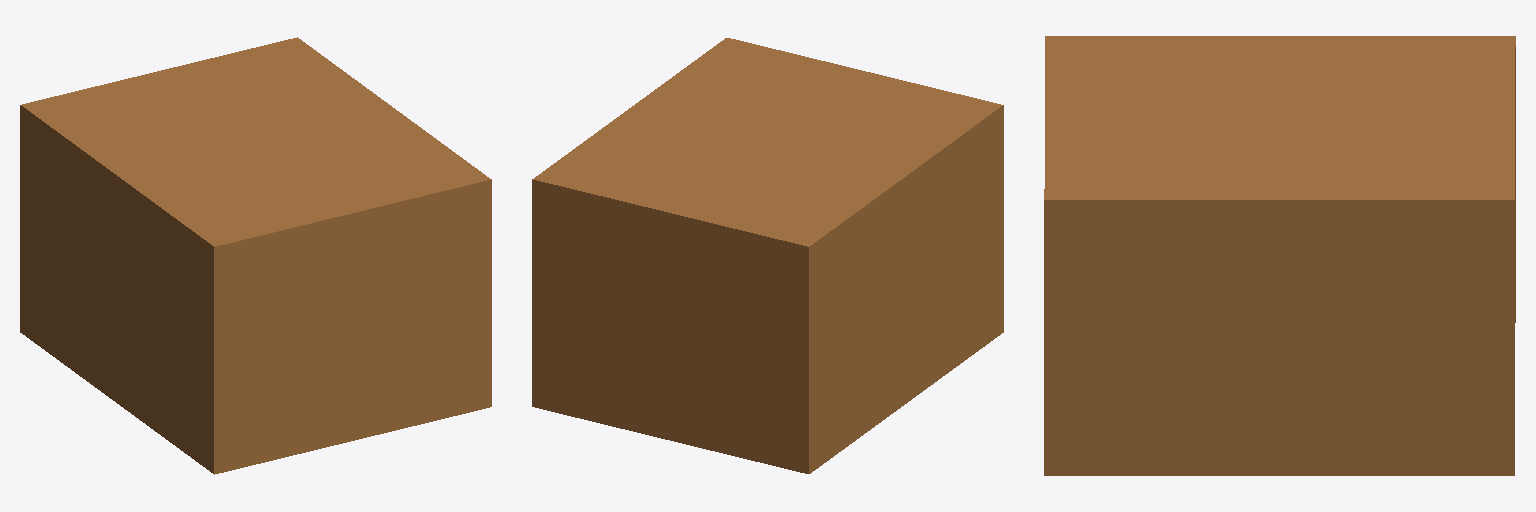
robot.urdf — Moving_box:
<?xml version="1.0" ?>
<!-- =================================================================================== -->
<!-- |    This document was autogenerated by xacro from moving_box.urdf.xacro          | -->
<!-- |    EDITING THIS FILE BY HAND IS NOT RECOMMENDED                                 | -->
<!-- =================================================================================== -->
<robot name="Moving_box">
  <link name="world">
    <origin rpy="0 0 0" xyz="0 0 0"/>
  </link>
  <link name="box_3">
    <visual>
      <origin rpy="0 0 0" xyz="0 0 0.0825"/>
      <geometry>
        <box size="0.255 0.21 0.165"/>
      </geometry>
      <material name="Almond">
        <color rgba="0.7 0.5 0.3 1.0"/>
      </material>
    </visual>
    <collision>
      <origin rpy="0 0 0" xyz="0 0 0.0825"/>
      <geometry>
        <box size="0.255 0.21 0.165"/>
      </geometry>
    </collision>
    <inertial>
      <origin rpy="0 0 0" xyz="0 0 0.0825"/>
      <mass value="0.01"/>
      <inertia ixx="6.0e-4" ixy="0" ixz="0" iyy="6.0e-4" iyz="0" izz="6.0e-4"/>
    </inertial>
  </link>
  <joint name="box_3_joint" type="planar">
    <axis xyz="0 0 1"/>
    <origin rpy="0 0 1.57" xyz="-0.21 -0.1275 0"/>
    <parent link="world"/>
    <child link="box_3"/>
  </joint>
</robot>

--- Render facts (derived) ---
The picture shows the robot from 3 angles, left to right: view 1: azimuth 30°, elevation 25°; view 2: azimuth 150°, elevation 25°; view 3: azimuth 270°, elevation 25°; orthographic projection.
Model Moving_box with 2 links and 1 joints (1 planar), rooted at world, posed all joints at 0.
Visible links, largest first — view 1: box_3; view 2: box_3; view 3: box_3.
Boxes of the visible links, box(x1,y1,x2,y2) form: box_3: box(20, 37, 491, 474); box_3: box(532, 38, 1003, 473); box_3: box(1044, 36, 1515, 475).
Bounding box of the posed robot: 0.2102 × 0.2552 × 0.165 m (x, y, z).
Geometry: primitives only (box / cylinder / sphere), no mesh files.